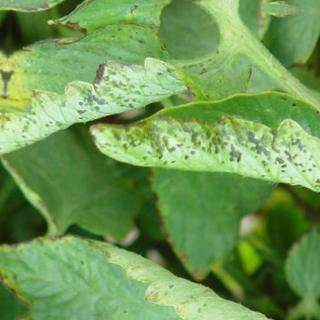Tomato leaf bacterial spot: (2, 16, 195, 179), (78, 79, 320, 185)
